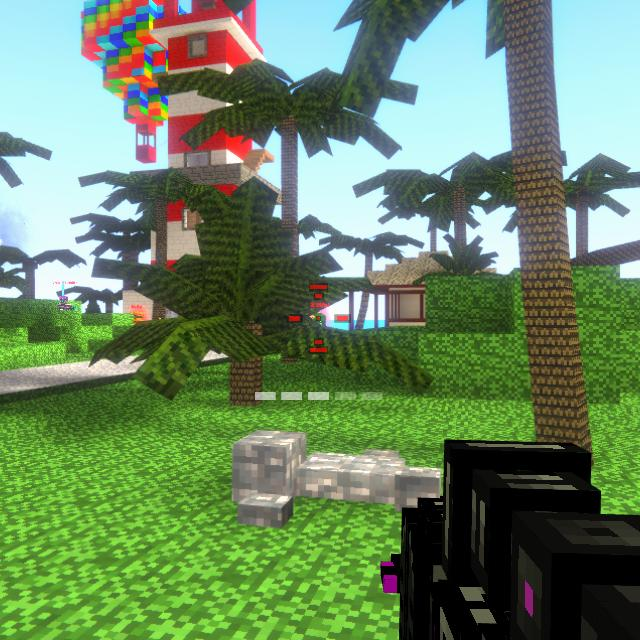Enemy: (132, 310, 145, 322)
